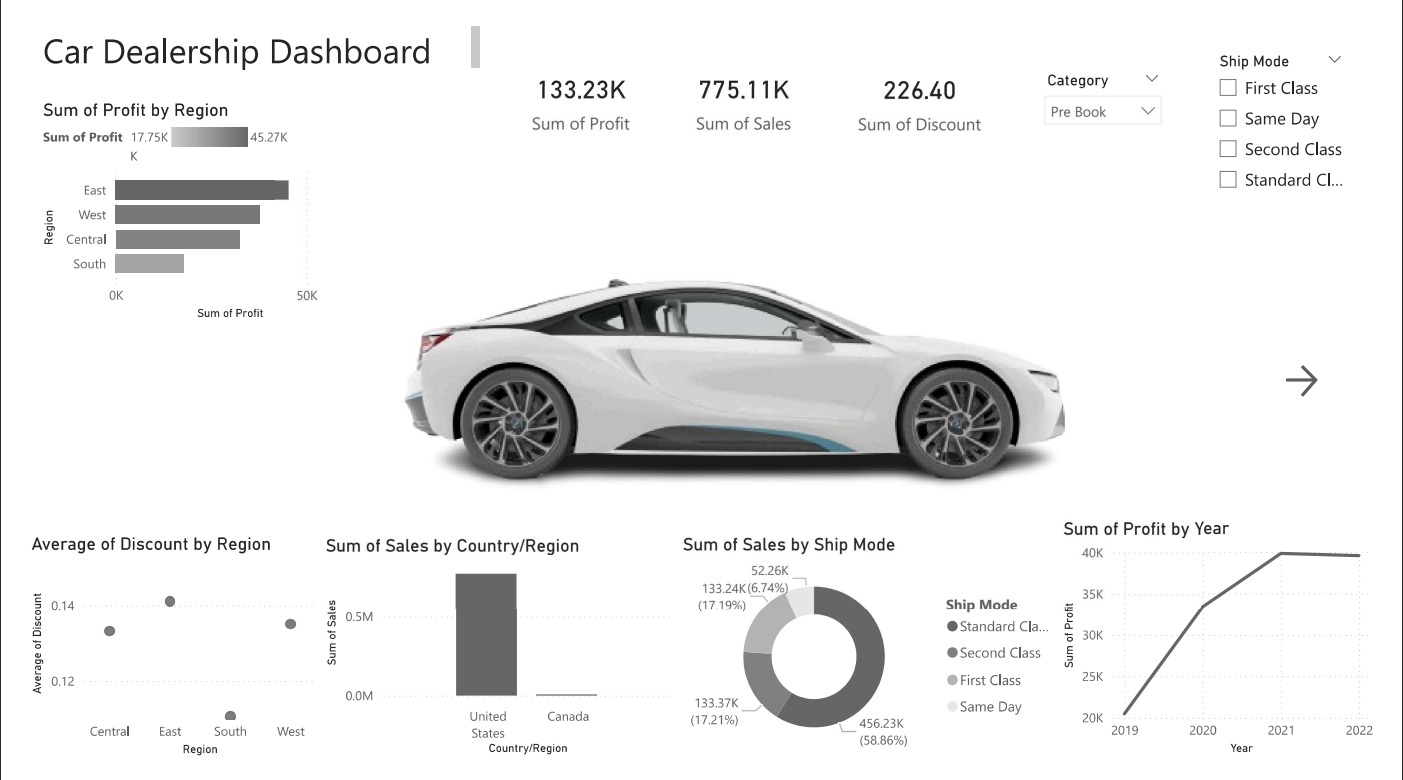

This screenshot's page, from the dashboard's own definition file:
{"tool":"powerbi","page":{"name":"Page 1","canvas":[1280,720],"ordinal":0},"visuals":[{"type":"barChart","fields":{"Y":["Sum(Car Dashboard Source xlsx - Orders.Profit)"],"Category":["Car Dashboard Source xlsx - Orders.Region"]},"box":[11.4,92.9,305.7,214.3],"z":1000},{"type":"columnChart","fields":{"Category":["Car Dashboard Source xlsx - Orders.Country/Region"],"Y":["Sum(Car Dashboard Source xlsx - Orders.Sales)"]},"box":[278.6,505,338.9,214.1],"z":2000},{"type":"donutChart","fields":{"Category":["Car Dashboard Source xlsx - Orders.Ship Mode"],"Y":["Sum(Car Dashboard Source xlsx - Orders.Sales)"]},"box":[617.5,503.6,365,215.4],"z":3000},{"type":"card","fields":{"Values":["Sum(Car Dashboard Source xlsx - Orders.Profit)"]},"box":[447.5,37.5,155,112.5],"z":4000},{"type":"card","fields":{"Values":["Sum(Car Dashboard Source xlsx - Orders.Sales)"]},"box":[617.5,53.5,124.9,81],"z":5000},{"type":"card","fields":{"Values":["Sum(Car Dashboard Source xlsx - Orders.Discount)"]},"box":[775.3,43.9,141.3,101.5],"z":6000},{"type":"slicer","fields":{"Values":["Car Dashboard Source xlsx - Orders.Category"]},"box":[953.7,61.7,131.7,61.7],"z":7000},{"type":"slicer","fields":{"Values":["Car Dashboard Source xlsx - Orders.Ship Mode"]},"box":[1117,43.9,141.3,183.9],"z":8000},{"type":"lineChart","fields":{"Category":["Car Dashboard Source xlsx - Orders.Order Date.Variation.Date Hierarchy.Year"],"Y":["Sum(Car Dashboard Source xlsx - Orders.Profit)"]},"box":[977,488.5,303.3,230.5],"z":9000},{"type":"textbox","box":[11.4,18.6,422.9,51.4],"z":10000},{"type":"actionButton","box":[1186.7,340,71.7,40],"z":11000},{"type":"image","box":[231.4,0,885.7,657.1],"z":11001},{"type":"scatterChart","fields":{"Y":["Avg(Car Dashboard Source xlsx - Orders.Discount)"],"X":["Car Dashboard Source xlsx - Orders.Region"]},"box":[0,504.3,278.6,215.7],"z":11002}]}

Visuals, with their boxes in screenshot pixels (x1, y1, x2, y2), scaled from the page's 1280x720 canvas onto the 1403x780 screenshot:
barChart - Sum(Car Dashboard Source xlsx - Orders.Profit) x Car Dashboard Source xlsx - Orders.Region: 12/101/348/333
columnChart - Car Dashboard Source xlsx - Orders.Country/Region x Sum(Car Dashboard Source xlsx - Orders.Sales): 305/547/677/779
donutChart - Car Dashboard Source xlsx - Orders.Ship Mode x Sum(Car Dashboard Source xlsx - Orders.Sales): 677/546/1077/779
card - Sum(Car Dashboard Source xlsx - Orders.Profit): 491/41/660/162
card - Sum(Car Dashboard Source xlsx - Orders.Sales): 677/58/814/146
card - Sum(Car Dashboard Source xlsx - Orders.Discount): 850/48/1005/158
slicer - Car Dashboard Source xlsx - Orders.Category: 1045/67/1190/134
slicer - Car Dashboard Source xlsx - Orders.Ship Mode: 1224/48/1379/247
lineChart - Car Dashboard Source xlsx - Orders.Order Date.Variation.Date Hierarchy.Year x Sum(Car Dashboard Source xlsx - Orders.Profit): 1071/529/1402/779
textbox: 12/20/476/76
actionButton: 1301/368/1379/412
image: 254/0/1224/712
scatterChart - Avg(Car Dashboard Source xlsx - Orders.Discount) x Car Dashboard Source xlsx - Orders.Region: 0/546/305/779
